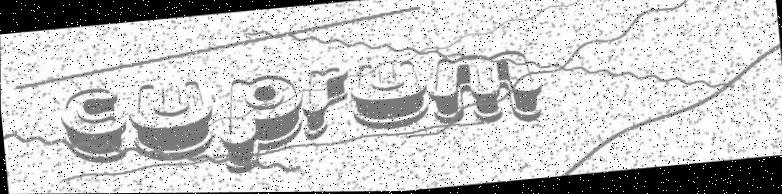c: (56, 85, 130, 168)
m: (424, 48, 545, 133)
p: (213, 71, 308, 176)
r: (298, 66, 353, 142)
u: (124, 76, 216, 164), (346, 58, 431, 135)
